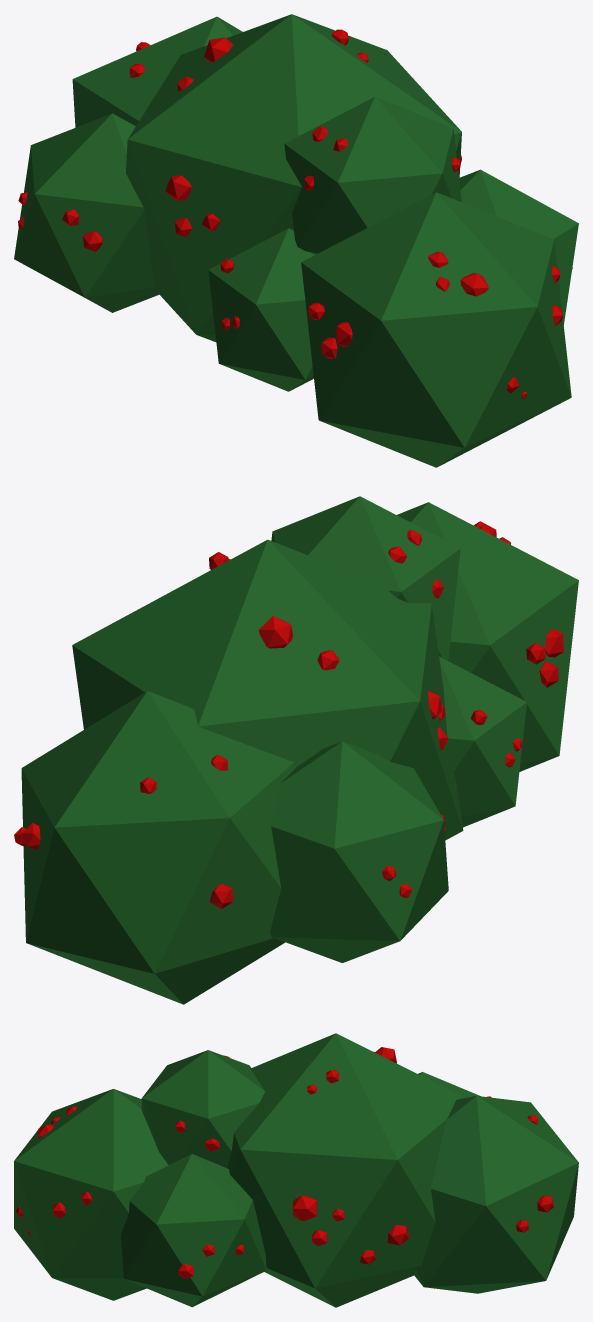
File: Bush_03.fbx
3 views of the same model, one above another, from view 1: azimuth 30°, elevation 25°; view 2: azimuth 150°, elevation 25°; view 3: azimuth 270°, elevation 25° (orthographic). The views are drawn at different scales.
Parts seen in each view (by area): view 1: Bush_03; view 2: Bush_03; view 3: Bush_03.
Part boxes in pixels (x1,y1,x2,y2): Bush_03: [14, 14, 578, 467]; Bush_03: [14, 496, 578, 1004]; Bush_03: [14, 1033, 578, 1307].
Size of the model in its own units: 95.17 by 83.12 by 155.
